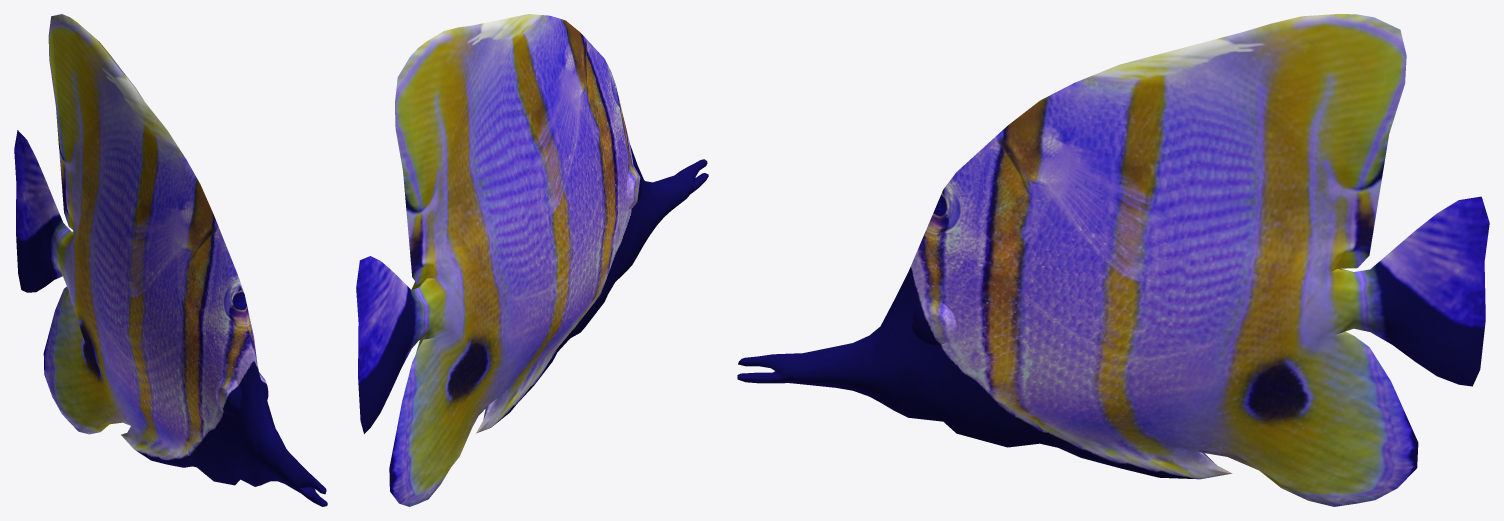
File: butterflyfish.glb
3 views of the same model, side by side, from view 1: azimuth 30°, elevation 25°; view 2: azimuth 150°, elevation 25°; view 3: azimuth 270°, elevation 25° (orthographic). The views are drawn at different scales.
Visible parts, largest first — view 1: zuvite_Cube; view 2: zuvite_Cube; view 3: zuvite_Cube.
Boxes of the visible parts, x1,y1,x2,y2 form: zuvite_Cube: (14, 14, 327, 506); zuvite_Cube: (356, 14, 708, 506); zuvite_Cube: (737, 14, 1489, 506).
Bounding box in the file's own units: 0.0238 × 0.1446 × 0.2.
1 material, 1 textured.
